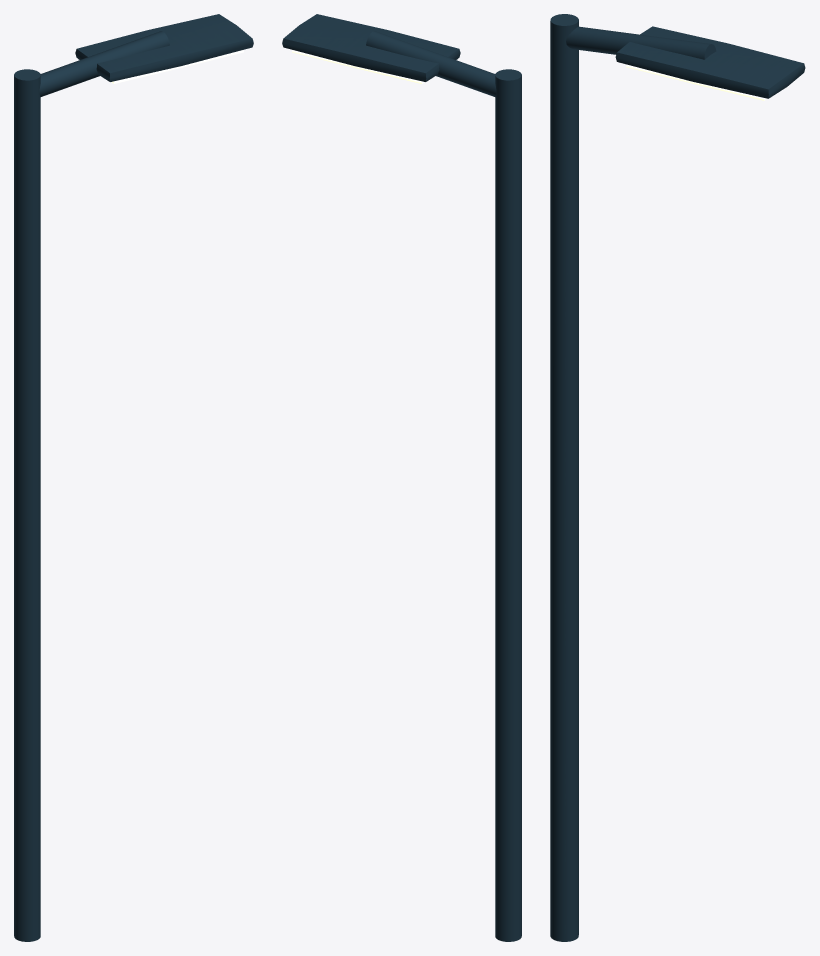
Rendered from street-light.glb.
3 views of the same model, side by side, from view 1: azimuth 30°, elevation 25°; view 2: azimuth 150°, elevation 25°; view 3: azimuth 330°, elevation 25° (orthographic). The views are drawn at different scales.
Parts seen in each view (by area): view 1: street-light; view 2: street-light; view 3: street-light.
Part boxes in pixels (x1,y1,x2,y2): street-light: (14, 14, 253, 941); street-light: (282, 14, 521, 941); street-light: (550, 14, 805, 941).
Bounding box in the file's own units: 1.05 × 3.94 × 0.3.
4 materials, 4 textured.
